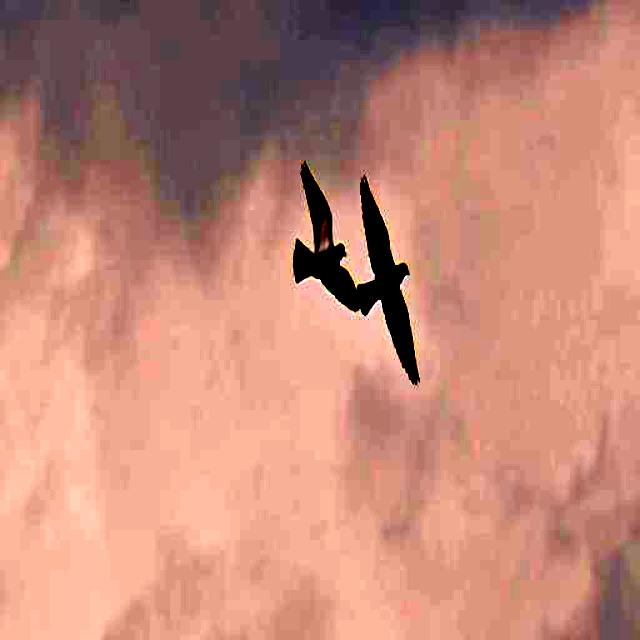airplane: (355, 136, 440, 418), (282, 150, 365, 314)
